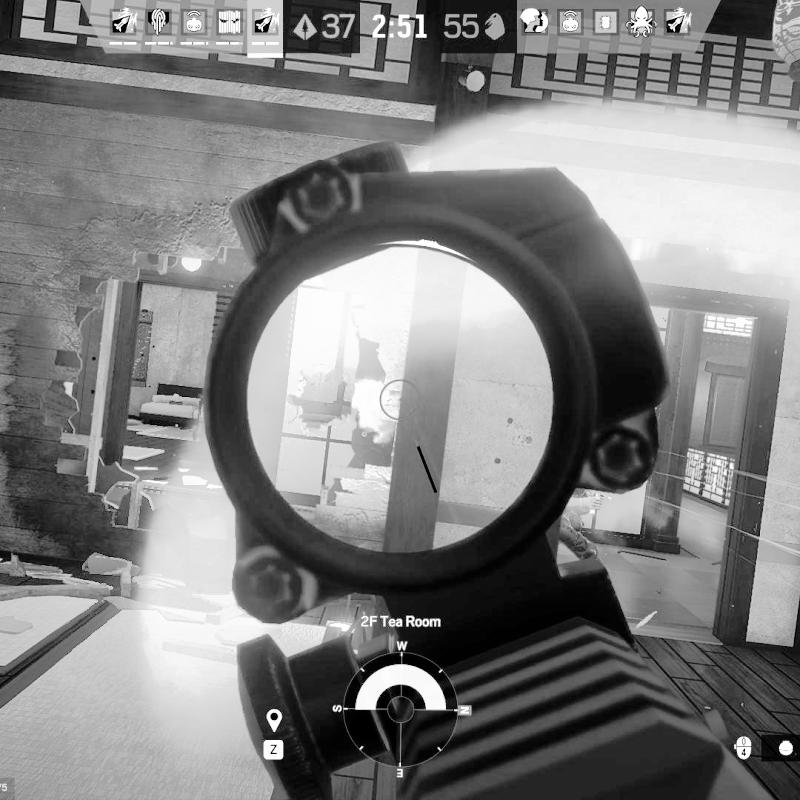Character: (555, 487, 614, 566)
